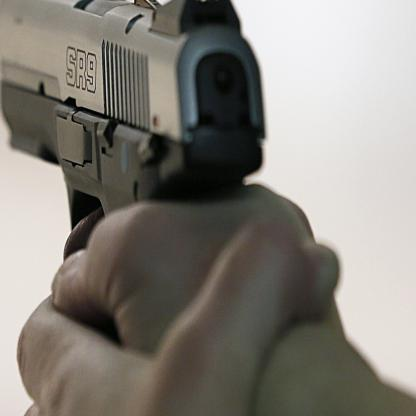gun: (0, 0, 307, 361)
